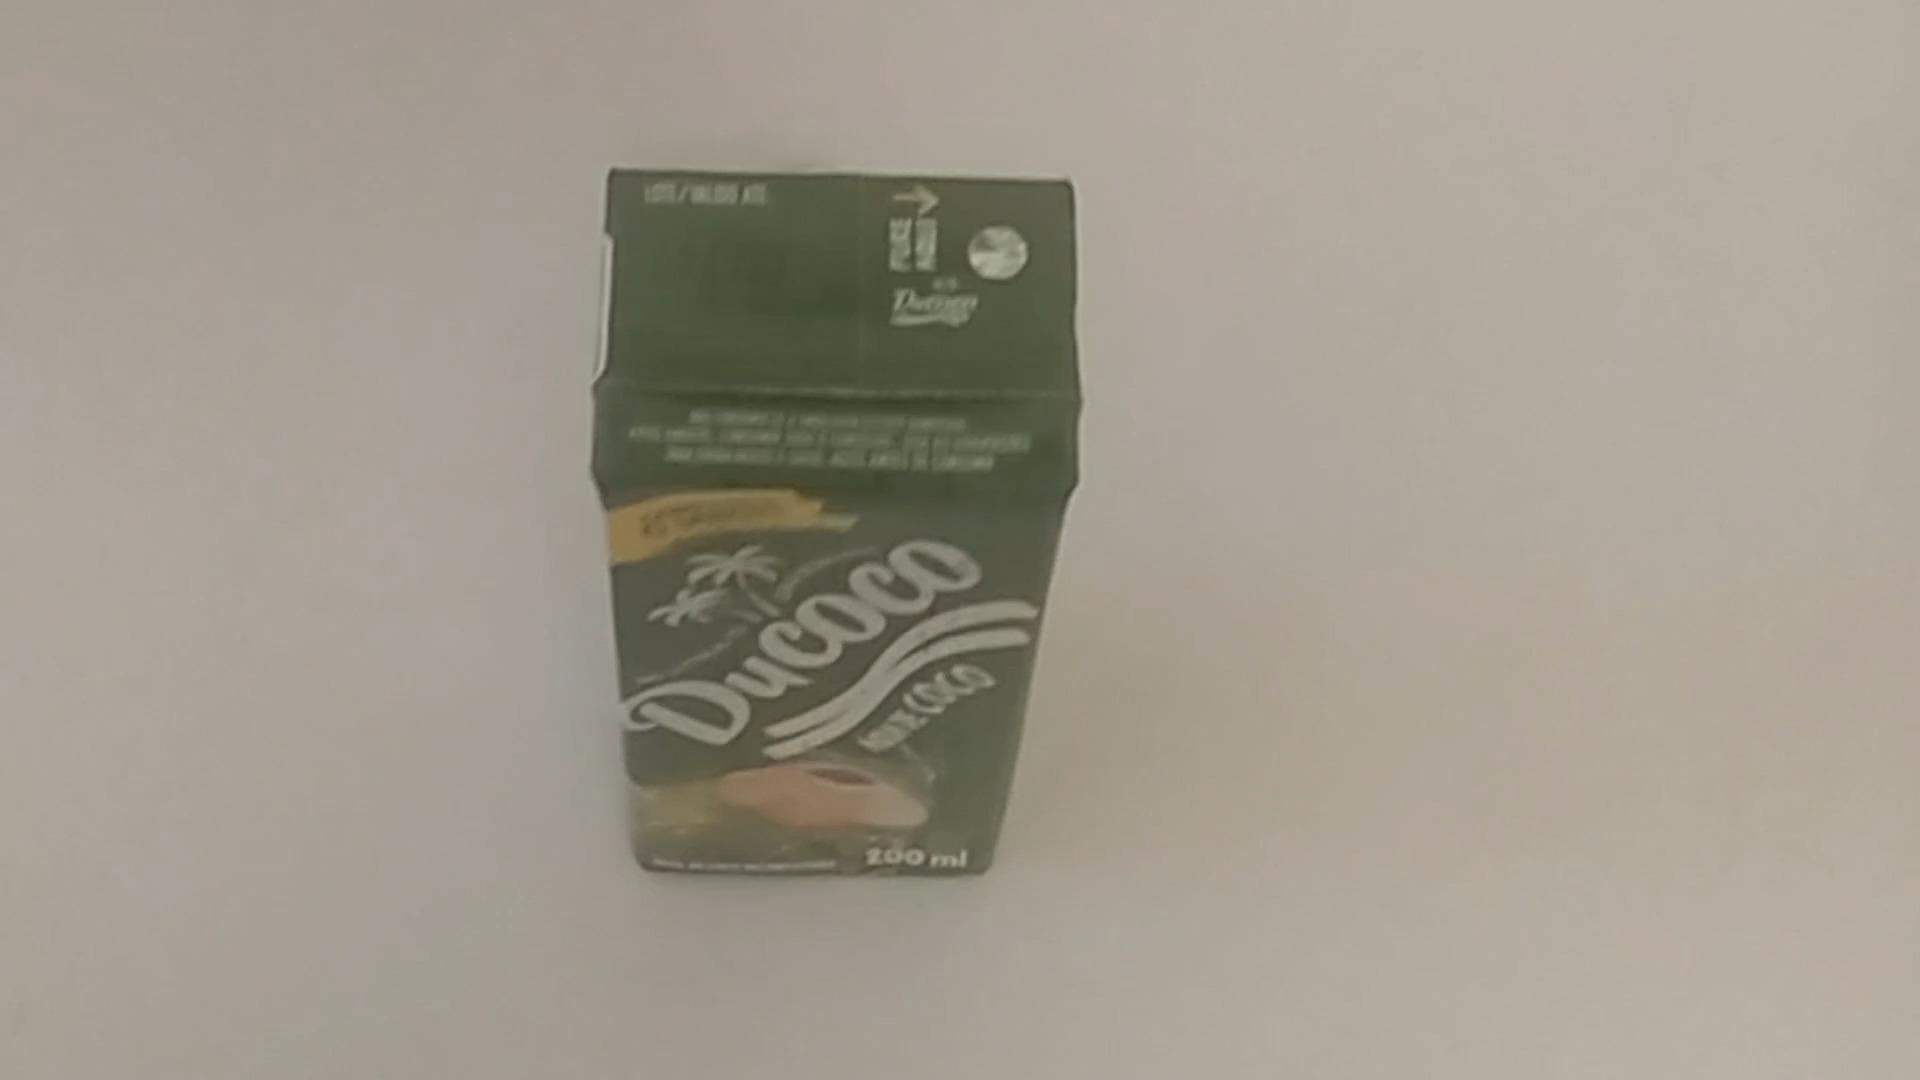coco: (592, 166, 1081, 887)
